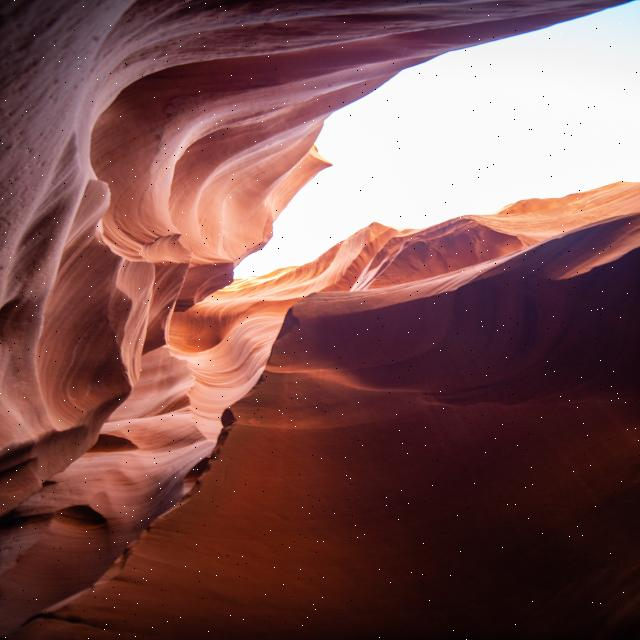Sedimentary: (5, 1, 640, 639)
